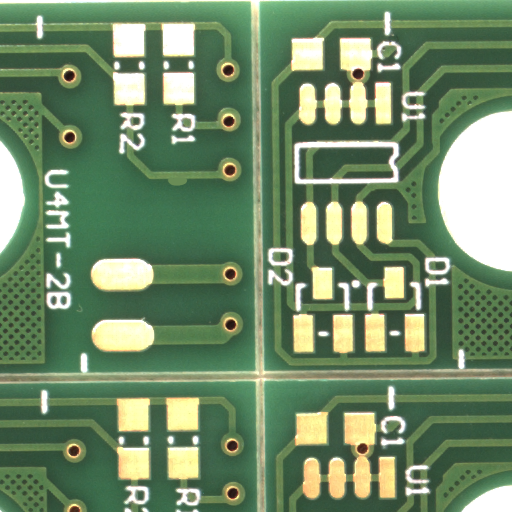Spur: (176, 181, 205, 192)
